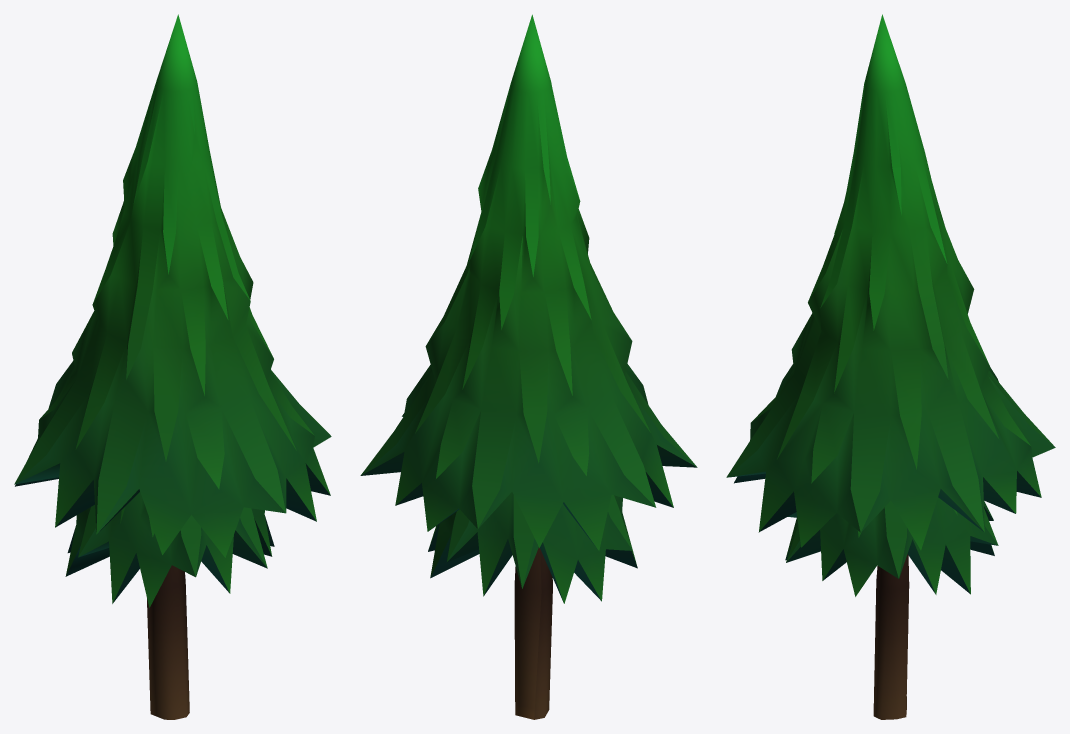
The model's file is Pine_Tree_1B.fbx.
The picture shows the model from 3 angles, left to right: view 1: azimuth 30°, elevation 25°; view 2: azimuth 150°, elevation 25°; view 3: azimuth 270°, elevation 25°; orthographic projection.
Parts seen in each view (by area): view 1: Pine_Tree_1B; view 2: Pine_Tree_1B; view 3: Pine_Tree_1B.
Part boxes in pixels (x1=…): Pine_Tree_1B: x1=14, y1=14, x2=331, y2=719; Pine_Tree_1B: x1=360, y1=14, x2=697, y2=719; Pine_Tree_1B: x1=726, y1=14, x2=1055, y2=719.
Bounding box in the file's own units: 335 × 780 × 333.
